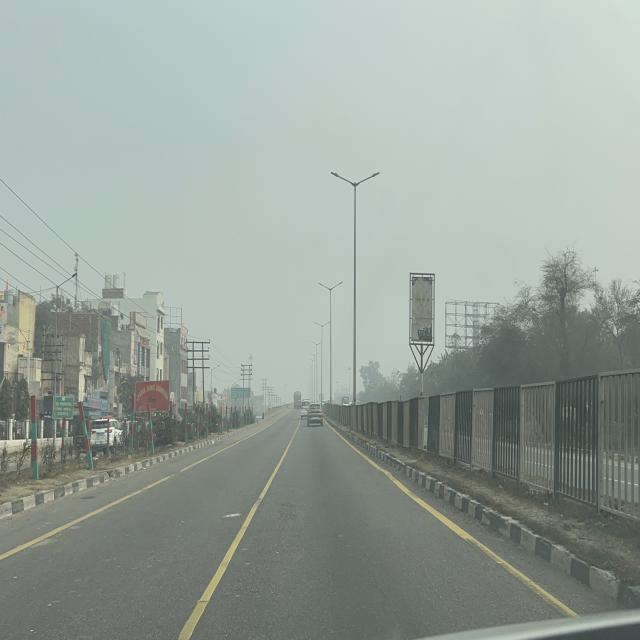GENERAL: (53, 397, 74, 419)
